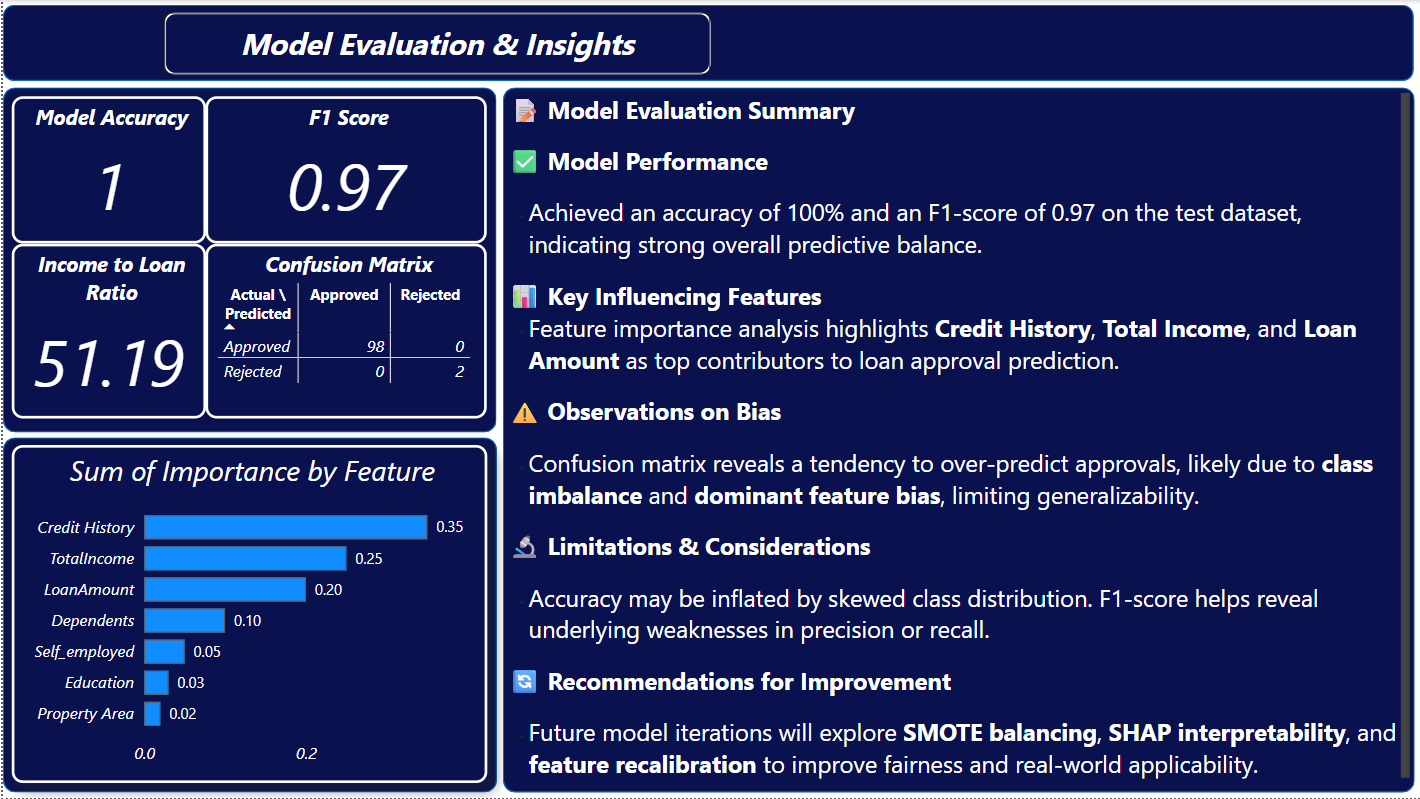

This screenshot's page, from the dashboard's own definition file:
{"tool":"powerbi","page":{"name":"Model Evaluation","canvas":[1280,720],"ordinal":1},"visuals":[{"type":"shape","title":"Appllicant Profile Filters","box":[0,394.3,445.3,320],"z":0},{"type":"shape","box":[0,5,1272,68.4],"z":1000},{"type":"textbox","box":[145.5,11.2,492.6,56],"z":2000},{"type":"shape","title":"Appllicant Profile Filters","box":[0,78.4,445,311],"z":3000},{"type":"card","title":"F1 Score","fields":{"Values":["Sum(Table (2).F1 Score)"]},"box":[182.9,87.1,253.8,133.1],"z":4000},{"type":"card","title":"Model Accuracy","fields":{"Values":["Sum(Table.Model Evaluation)"]},"box":[7.5,87.1,175.4,133.1],"z":5000},{"type":"card","title":"Income to Loan Ratio","fields":{"Values":["loandata.Avg_Income_Loan_Ratio"]},"box":[7.5,220.2,175.4,158],"z":6000},{"type":"tableEx","title":"Confusion Matrix","fields":{"Values":["Table (3).Actual \\ Predicted","Sum(Table (3).Appproved)","Sum(Table (3).Rejected)"]},"box":[182.9,220.2,253.8,158],"z":7000},{"type":"clusteredBarChart","fields":{"Category":["ModelInsights.Feature"],"Y":["Sum(ModelInsights.Importance)"]},"box":[7.5,401.8,429.2,304.8],"z":8000},{"type":"shape","title":"Appllicant Profile Filters","box":[450.3,78.4,822,635.7],"z":8001},{"type":"textbox","box":[450.3,78.4,822.3,628.2],"z":8002}]}

Visuals, with their boxes in screenshot pixels (x1, y1, x2, y2), scaled from the page's 1280x720 canvas onto the 1420x799 screenshot:
"Appllicant Profile Filters" shape: <bbox>0, 438, 494, 793</bbox>
shape: <bbox>0, 6, 1411, 81</bbox>
textbox: <bbox>161, 12, 708, 75</bbox>
"Appllicant Profile Filters" shape: <bbox>0, 87, 494, 432</bbox>
"F1 Score" card: <bbox>203, 97, 484, 244</bbox>
"Model Accuracy" card: <bbox>8, 97, 203, 244</bbox>
"Income to Loan Ratio" card: <bbox>8, 244, 203, 420</bbox>
"Confusion Matrix" tableEx: <bbox>203, 244, 484, 420</bbox>
clusteredBarChart - ModelInsights.Feature x Sum(ModelInsights.Importance): <bbox>8, 446, 484, 784</bbox>
"Appllicant Profile Filters" shape: <bbox>500, 87, 1411, 792</bbox>
textbox: <bbox>500, 87, 1412, 784</bbox>
